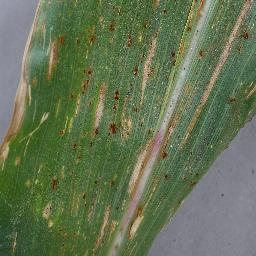Gray_Leaf_Spot: (0, 0, 255, 256), (225, 95, 256, 126)
